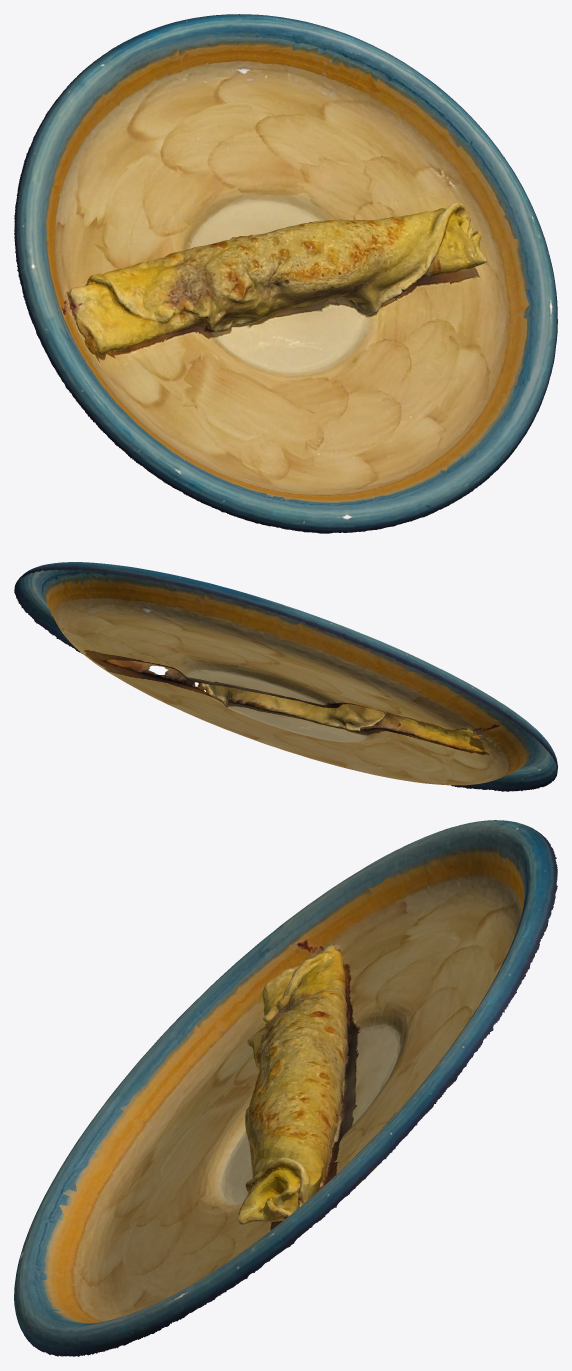
The model's file is Crepe_Nutella.fbx.
The picture shows the model from 3 angles, top to bottom: view 1: azimuth 30°, elevation 25°; view 2: azimuth 150°, elevation 25°; view 3: azimuth 270°, elevation 25°; orthographic projection. The views are drawn at different scales.
Parts seen in each view (by area): view 1: Crepe Nutella_tex_high; view 2: Crepe Nutella_tex_high; view 3: Crepe Nutella_tex_high.
Boxes of the visible parts, x1=… form: Crepe Nutella_tex_high: x1=14, y1=14, x2=557, y2=533; Crepe Nutella_tex_high: x1=14, y1=562, x2=557, y2=791; Crepe Nutella_tex_high: x1=14, y1=820, x2=557, y2=1356.
Size of the model in its own units: 19.83 by 13.27 by 14.94.
